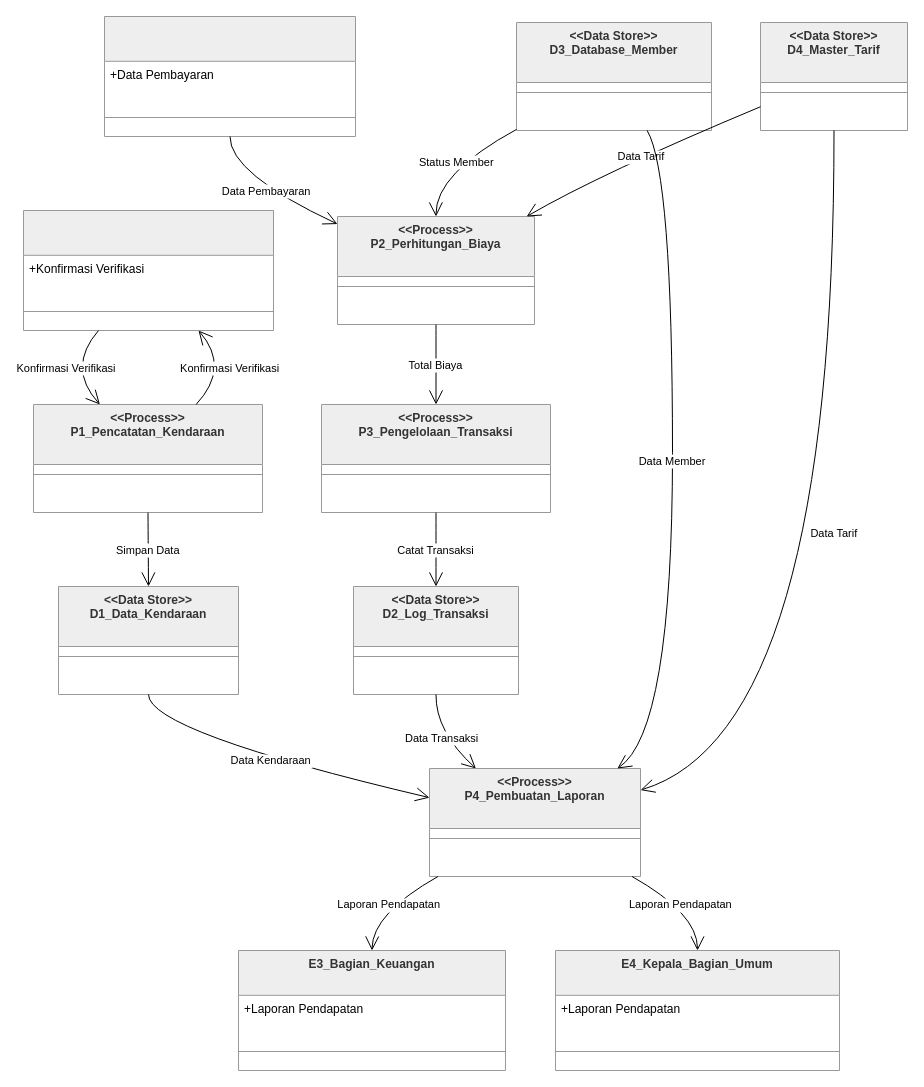
The diagram is 924 pixels wide and 1087 high, and some of its shapes have lost their labels. The shapes that lost their labels are listed below. From the top down, each one's box as (x1, y1, x2, y2) in pixels, then its label:
(104, 16, 356, 136): E2_Pengguna_Kampus
(22, 210, 274, 330): E1_Petugas_Parkir
